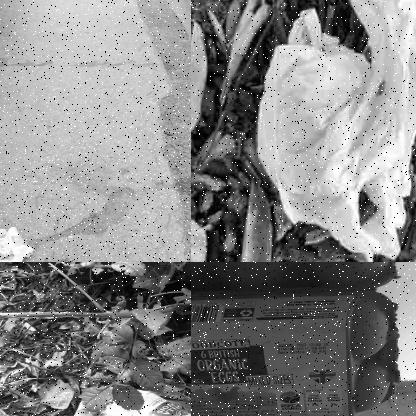cardboard: (191, 262, 405, 415)
metal: (65, 382, 190, 415)
plastic: (254, 0, 415, 261), (0, 223, 38, 261)
